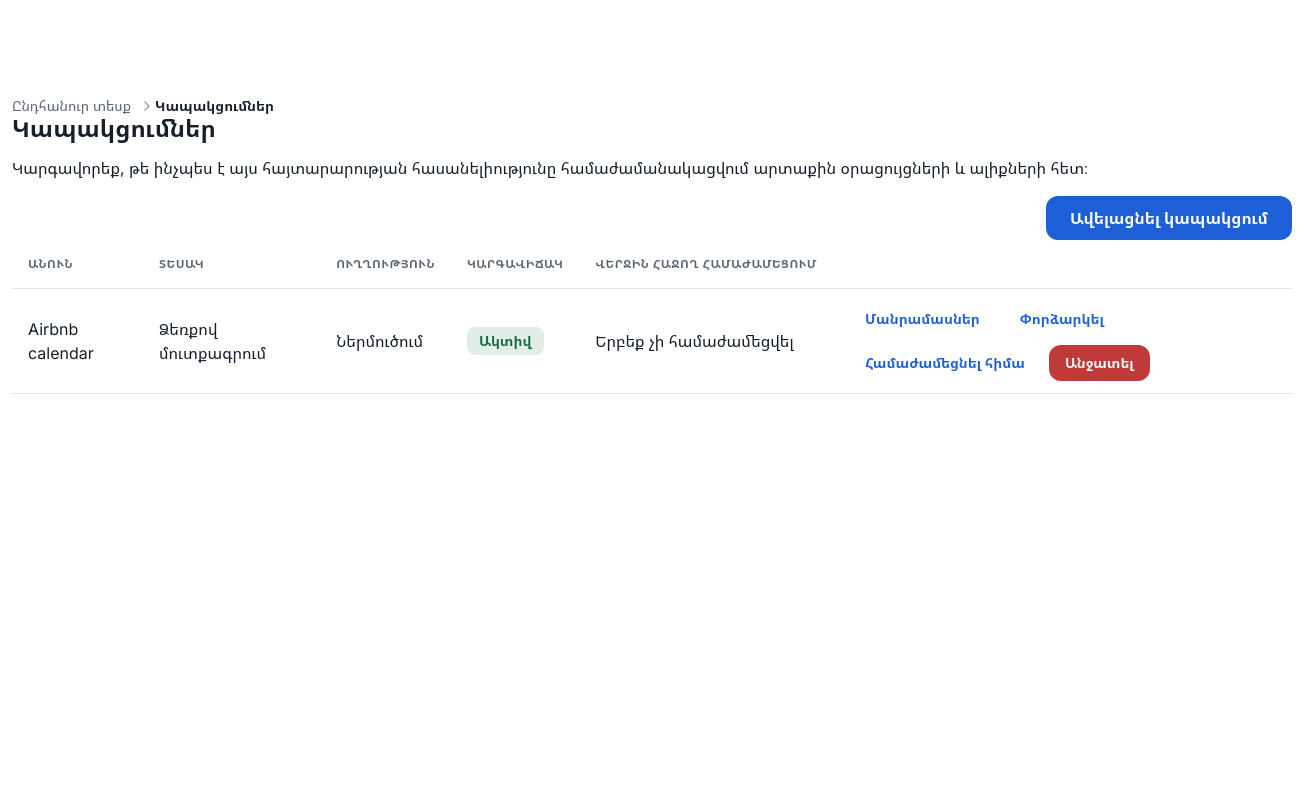
Test: PartnerConnectionsPageContent (apps/web/src/modules/partner) › selecting a connection shows the sync history / conflicts / mapping tabs
This screenshot has width=1304, height=800.
Click the button "Մանրամասներ" at (922, 319), box [849,301,996,337]
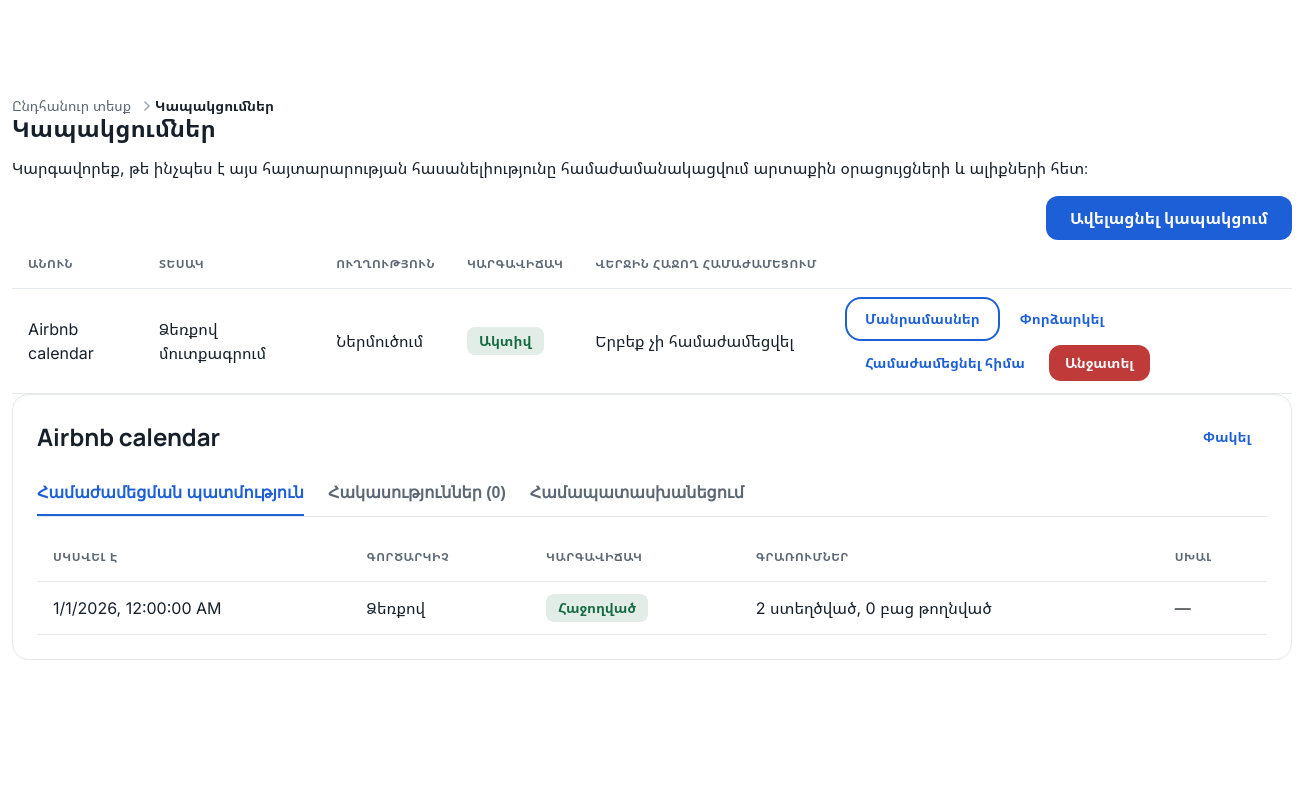
Expected: the tab "Համաժամեցման պատմություն" is shown, [37,471,304,516]
Expected: the text "2 ստեղծված, 0 բաց թողնված" is shown, [740,582,1159,634]
